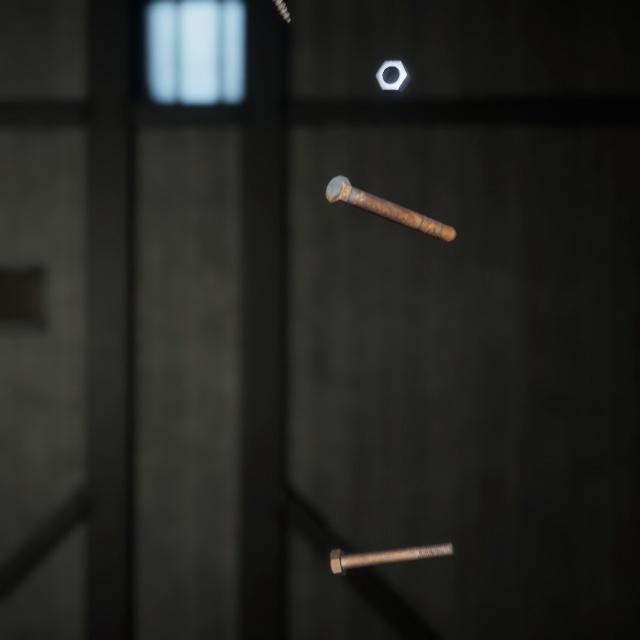bolt: (321, 156, 460, 232), (325, 516, 458, 559)
nut: (370, 46, 415, 88)
